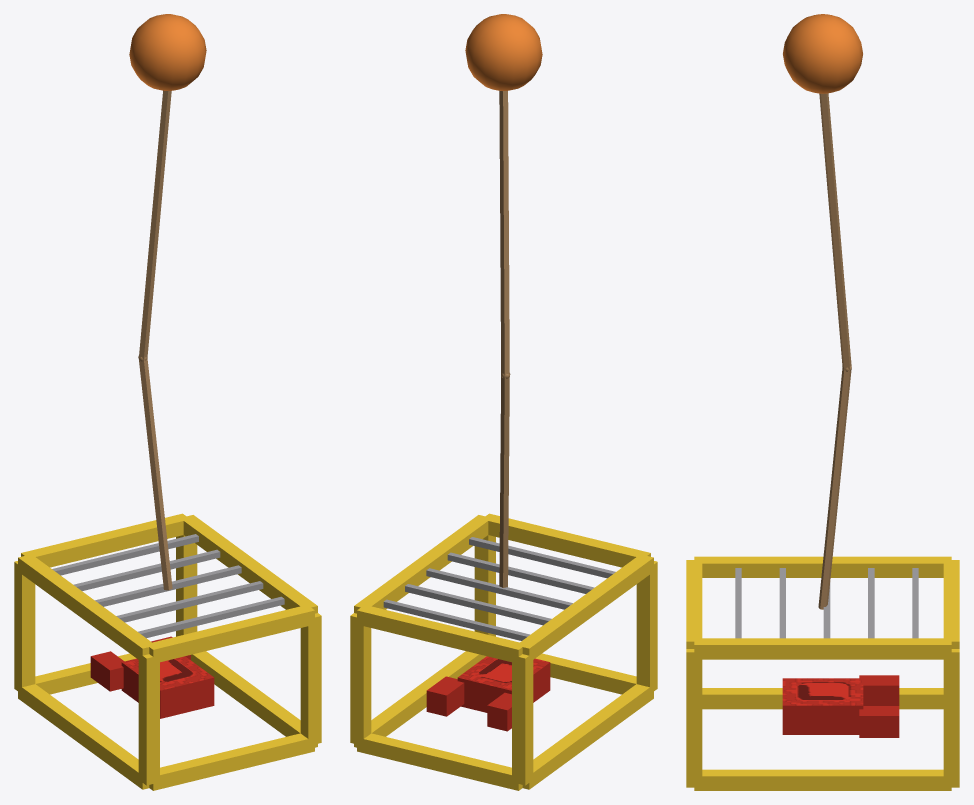
The model's file is CrabTrap.glb.
3 views of the same model, side by side, from view 1: azimuth 30°, elevation 25°; view 2: azimuth 150°, elevation 25°; view 3: azimuth 270°, elevation 25° (orthographic). The views are drawn at different scales.
Parts seen in each view (by area): view 1: CrabTrap; view 2: CrabTrap; view 3: CrabTrap.
Part boxes in pixels (box(x1,y1,x2,y2)): CrabTrap: box(14, 14, 321, 790); CrabTrap: box(350, 14, 657, 790); CrabTrap: box(686, 14, 959, 790).
Size of the model in its own units: 2.6 by 10 by 3.4.
1 material, 1 textured.
